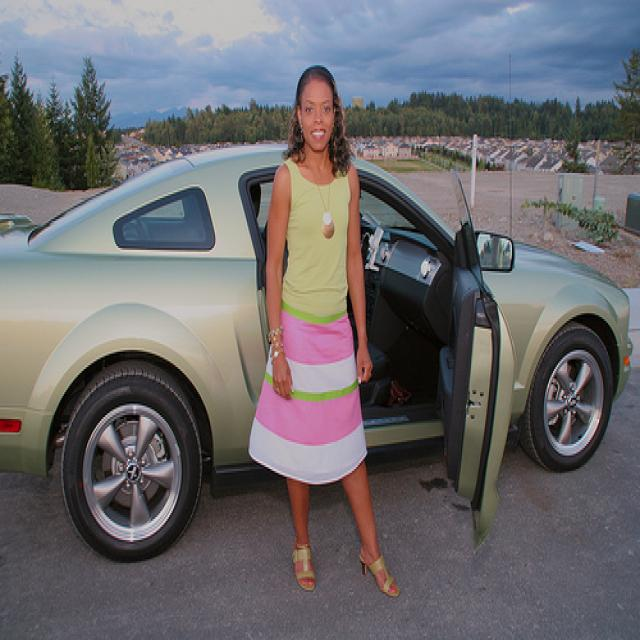light_vehicle: (0, 142, 634, 563)
